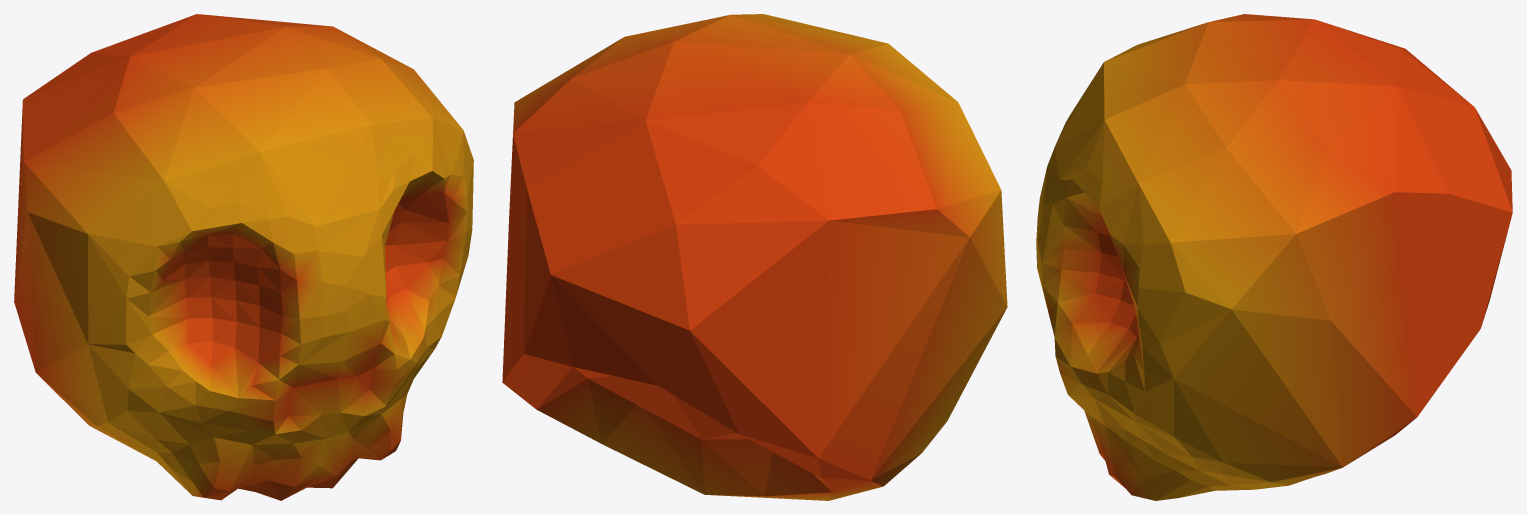
Rendered from skull.glb.
3 renders of one model, left to right at view 1: azimuth 30°, elevation 25°; view 2: azimuth 150°, elevation 25°; view 3: azimuth 270°, elevation 25°, orthographic. The views are drawn at different scales.
Parts seen in each view (by area): view 1: Sphere 1; view 2: Sphere 1; view 3: Sphere 1.
Boxes of the visible parts, bbox=[...] form: Sphere 1: bbox=[14, 14, 473, 500]; Sphere 1: bbox=[502, 14, 1007, 500]; Sphere 1: bbox=[1036, 14, 1512, 500].
Size of the model in its own units: 0.8606 by 0.7916 by 0.8202.
